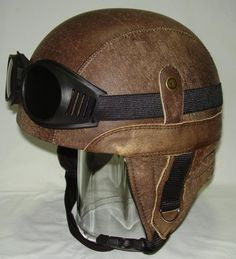with_helmet: (11, 6, 227, 161)
